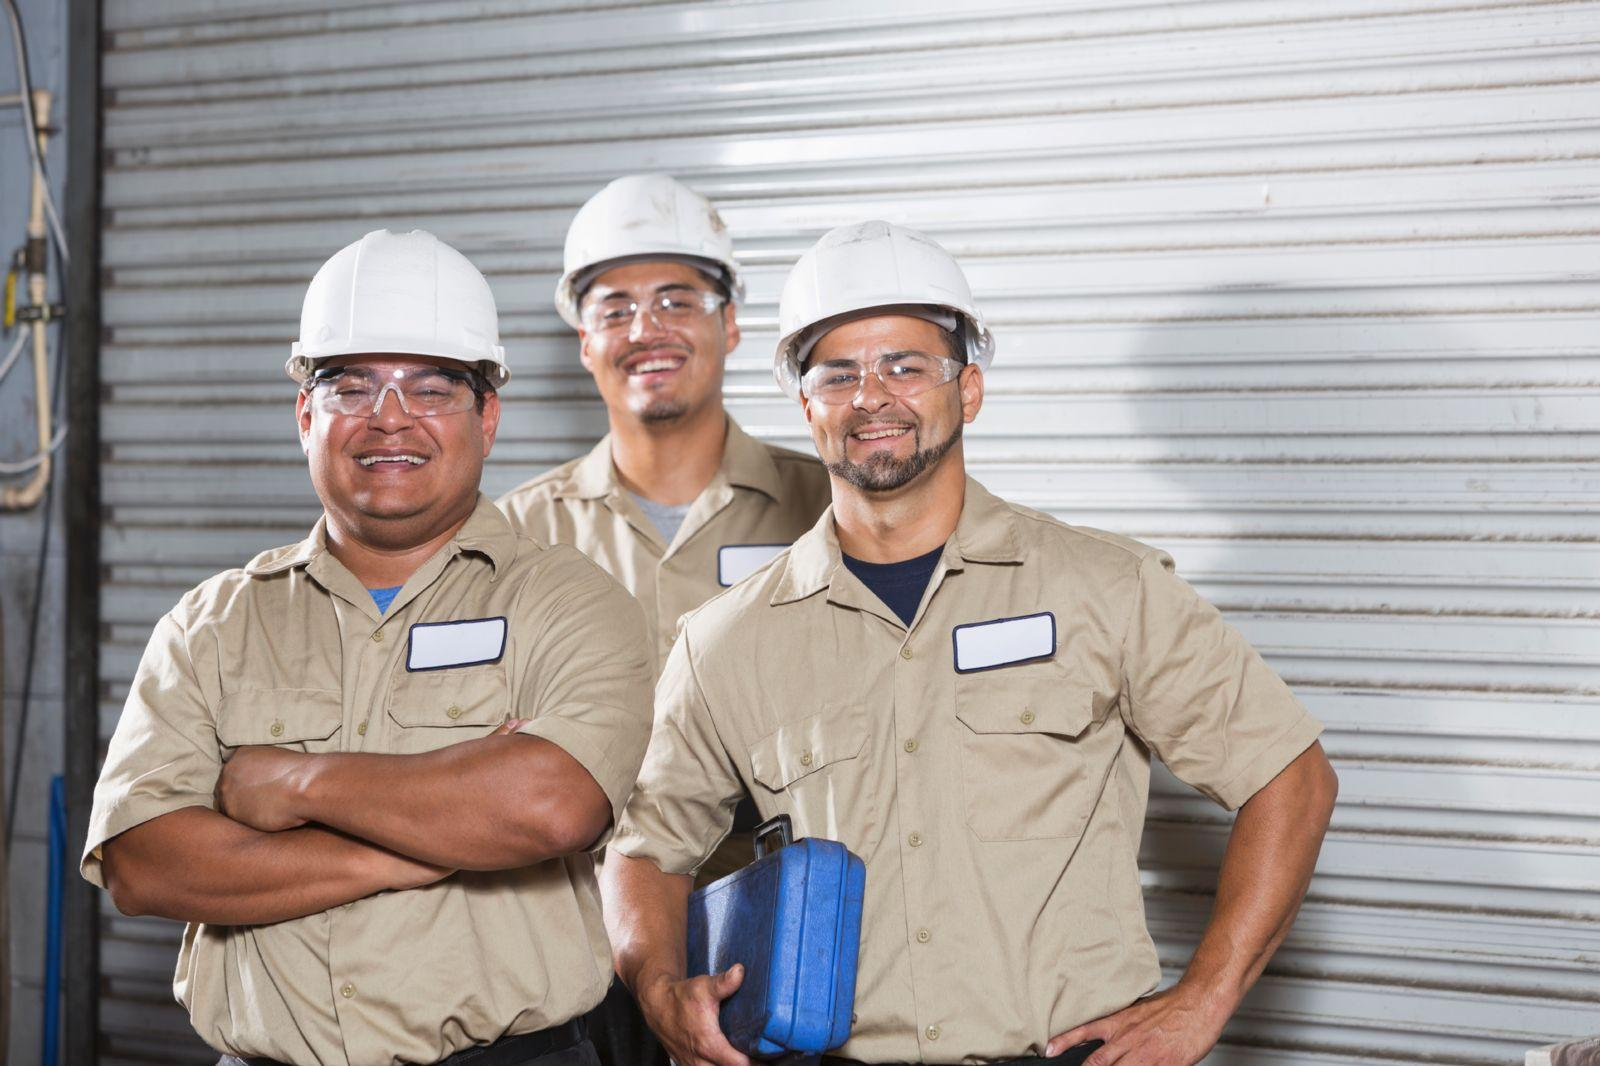helmet: (767, 219, 997, 397), (289, 228, 509, 384), (552, 176, 747, 334)
